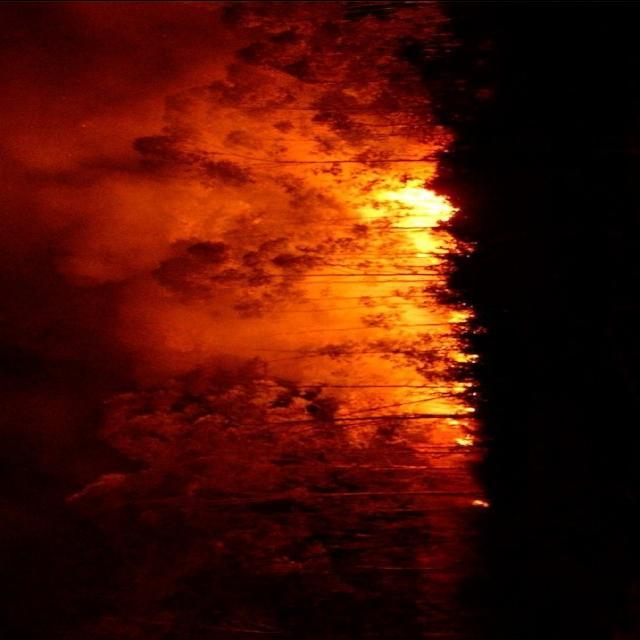Fire: (376, 175, 480, 446), (470, 498, 492, 507)
